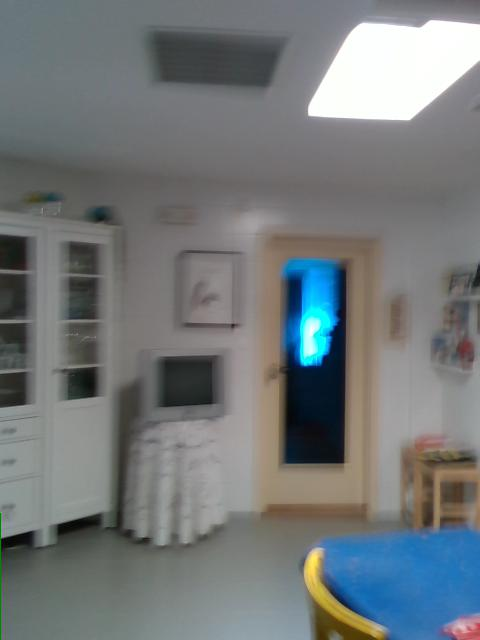door: (252, 230, 380, 520)
